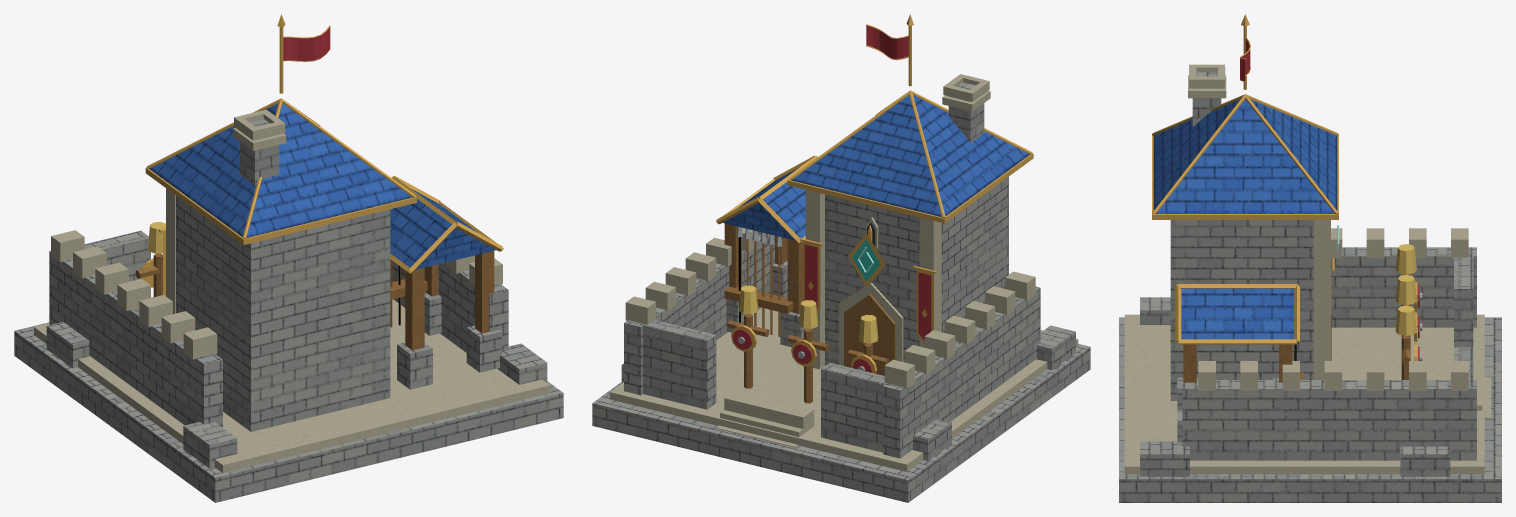
Rendered from Barracks_2.fbx.
3 views of the same model, side by side, from view 1: azimuth 30°, elevation 25°; view 2: azimuth 150°, elevation 25°; view 3: azimuth 270°, elevation 25° (orthographic). The views are drawn at different scales.
Visible parts, largest first — view 1: BuildingBody, FlagCloth_00; view 2: BuildingBody, FlagCloth_00; view 3: BuildingBody.
Part boxes in pixels (box(x1,y1,x2,y2)): BuildingBody: box(14, 14, 563, 502); FlagCloth_00: box(283, 25, 330, 61); BuildingBody: box(592, 14, 1090, 502); FlagCloth_00: box(866, 24, 908, 60); BuildingBody: box(1119, 14, 1501, 502).
Bounding box in the file's own units: 1 × 1.12 × 1.
Materials: 1 (1 with a texture image).
